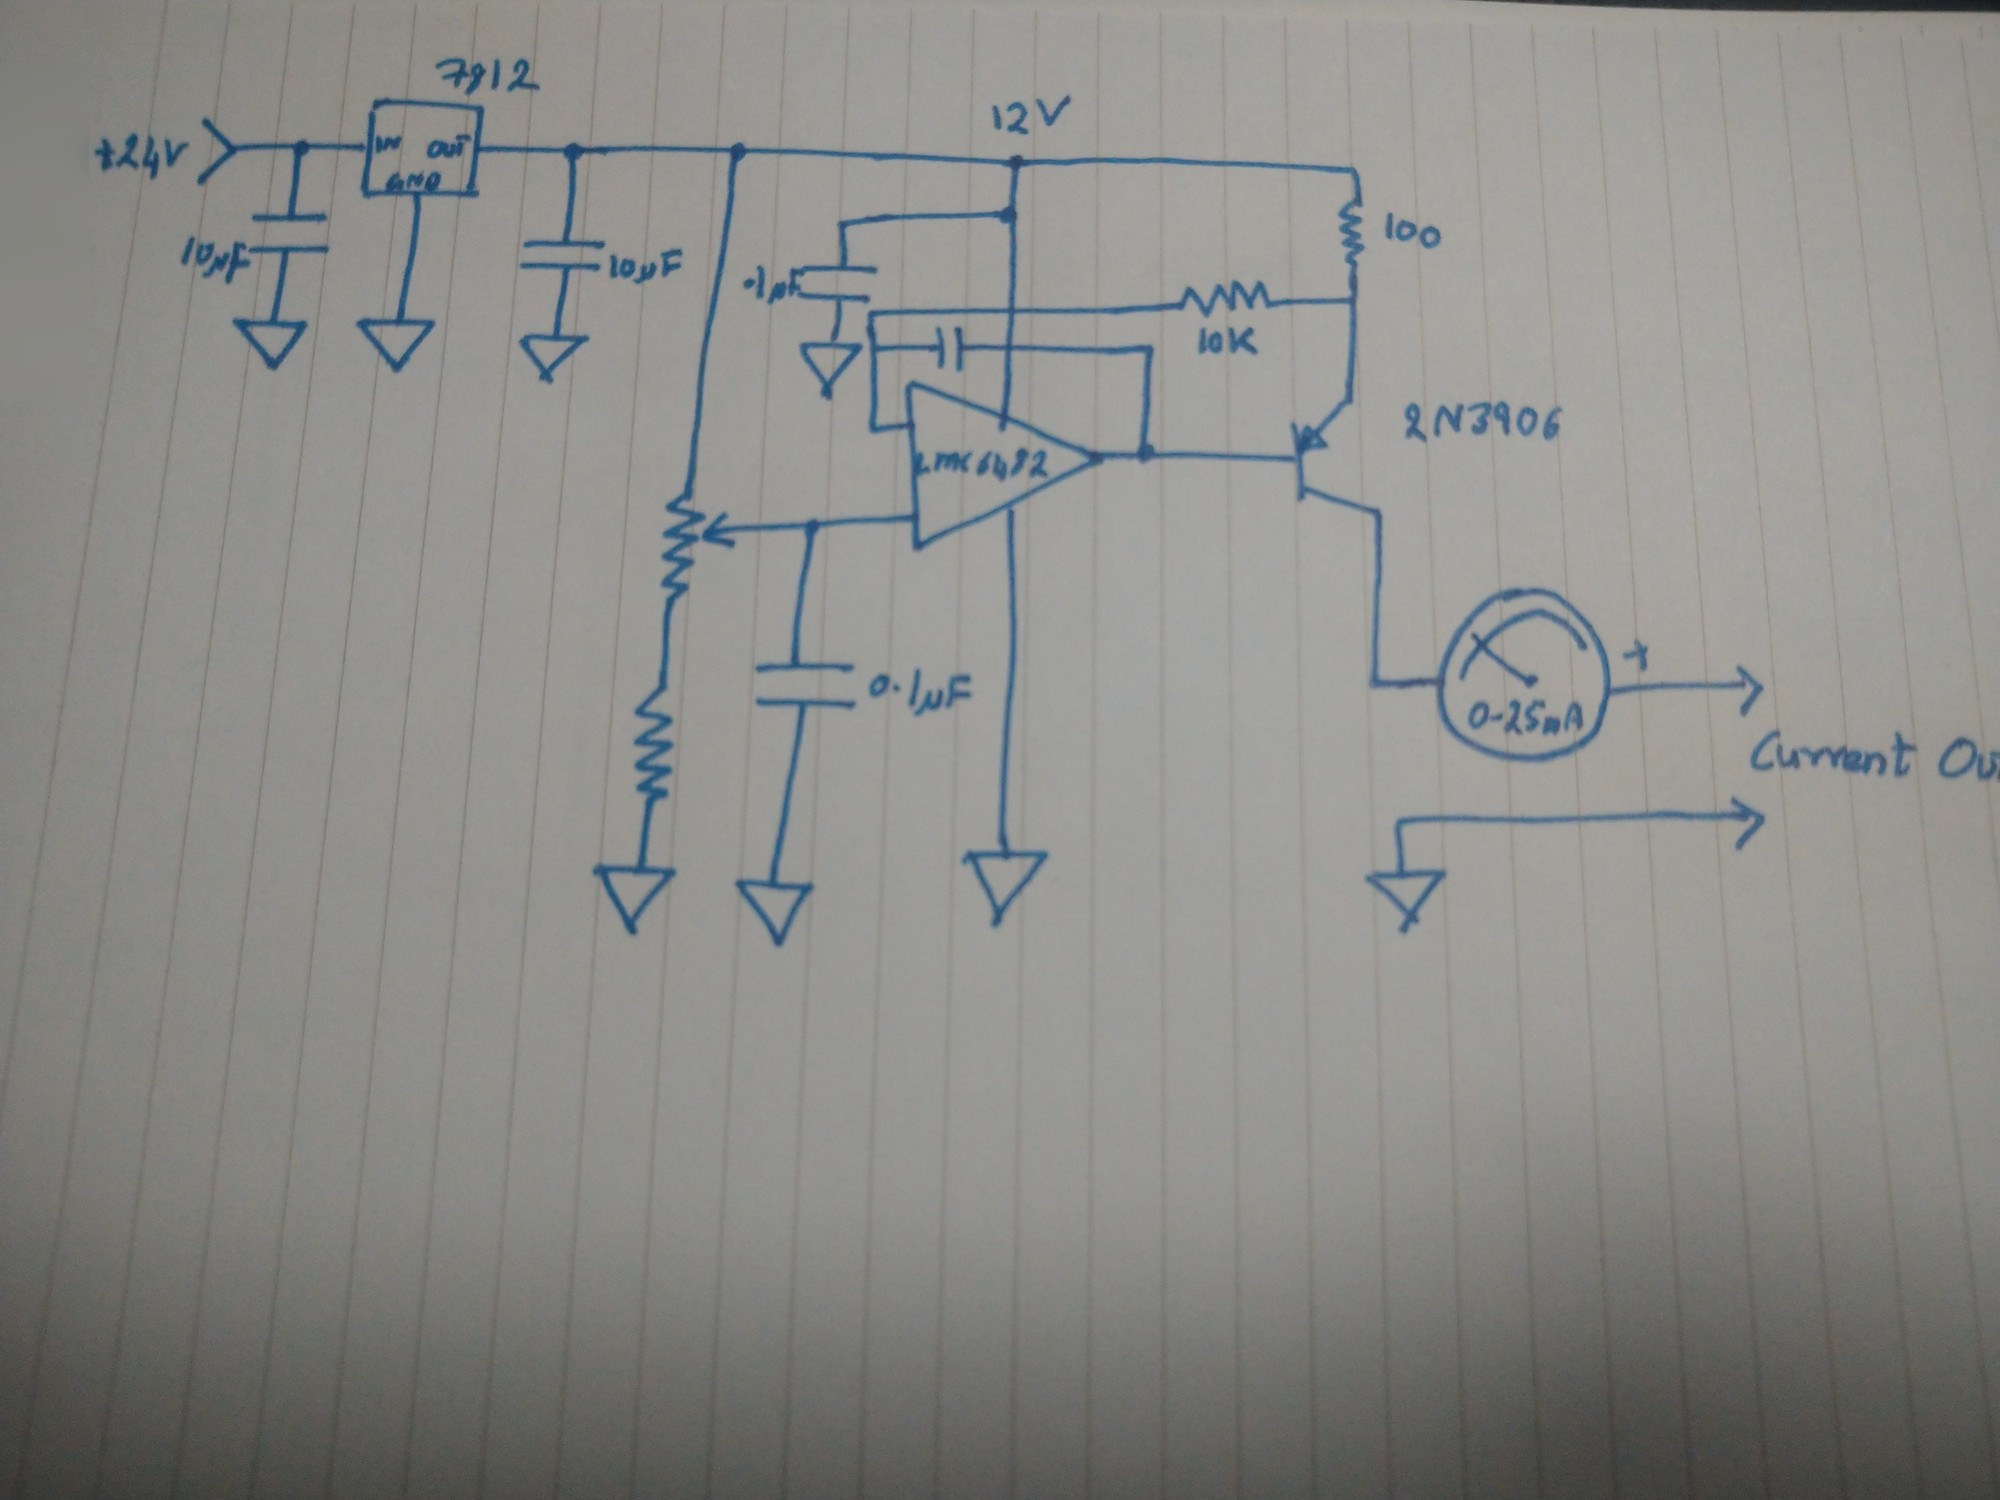capacitor.unpolarized: (748, 651, 861, 723), (513, 232, 608, 282), (247, 210, 332, 258), (798, 262, 883, 307), (928, 321, 975, 377)
crossover: (997, 336, 1022, 358), (998, 301, 1024, 321)
gnd: (957, 843, 1054, 933), (591, 856, 680, 941), (731, 874, 817, 949), (1359, 865, 1449, 930), (353, 314, 439, 377), (227, 314, 310, 373), (795, 334, 865, 403), (515, 329, 591, 388)
junction: (554, 139, 591, 169), (1128, 440, 1164, 470), (797, 511, 828, 544), (1000, 147, 1031, 178), (723, 136, 753, 167), (287, 134, 317, 164), (995, 199, 1024, 228), (1339, 288, 1369, 310), (1364, 670, 1387, 696), (1387, 811, 1414, 835), (835, 213, 857, 236), (1342, 161, 1365, 183), (1139, 336, 1159, 358), (866, 339, 885, 358), (865, 419, 883, 436), (865, 307, 880, 321)
operational_amplifier: (901, 378, 1110, 555)
probe.current: (1431, 581, 1617, 769)
resistor: (627, 681, 685, 810), (1173, 277, 1276, 320), (1335, 192, 1369, 271)
resistor.adjustable: (655, 490, 742, 610)
terminal: (194, 113, 238, 187), (1726, 793, 1769, 854), (1729, 660, 1769, 717)
text: (1742, 726, 2000, 783), (1395, 395, 1572, 451), (865, 665, 976, 722), (90, 129, 191, 183), (433, 52, 548, 98), (1466, 696, 1587, 736), (913, 444, 1050, 479), (987, 95, 1076, 140), (176, 235, 254, 287), (606, 244, 687, 288), (1376, 210, 1447, 254), (739, 262, 805, 307), (1194, 323, 1268, 359), (384, 169, 443, 192), (425, 132, 471, 159), (372, 132, 406, 154)
transistor: (1283, 392, 1395, 518)
voltage.dc_regulator: (357, 93, 488, 211)
